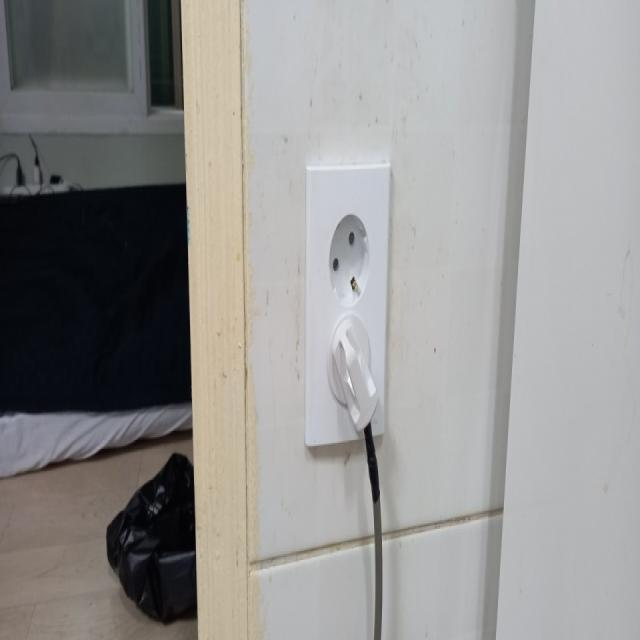typeb: (281, 131, 408, 476)
